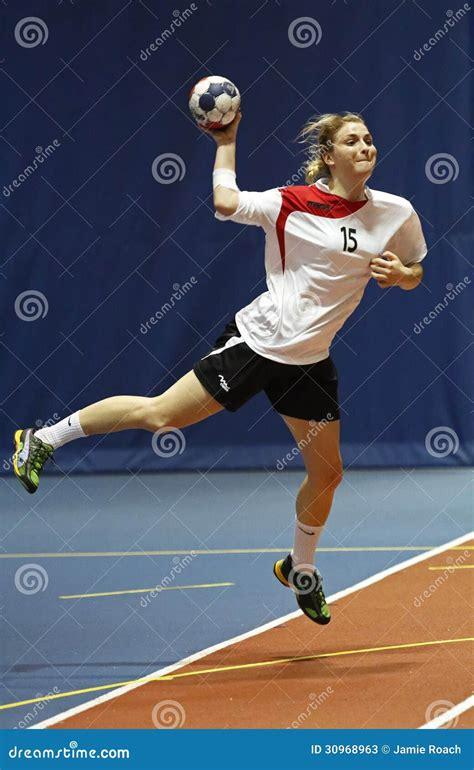ballon_handball: (187, 69, 240, 131)
